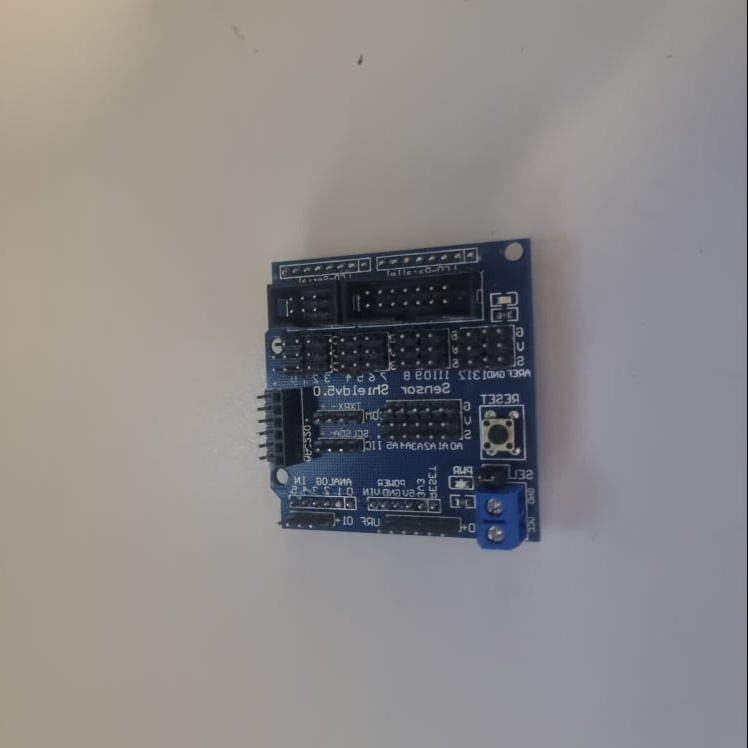5V EXPANSION: (260, 239, 545, 552)
